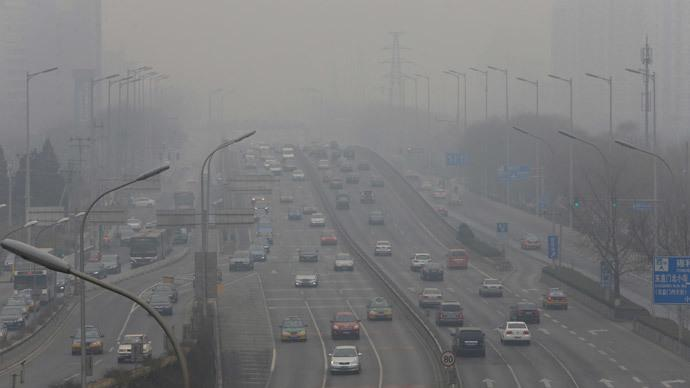airplane: (5, 155, 188, 375), (5, 218, 179, 317), (34, 160, 169, 223), (2, 240, 126, 295)
backpack: (123, 194, 156, 228)
baseball bat: (89, 164, 172, 212), (112, 164, 171, 192)
boat: (520, 233, 541, 250)
bus: (8, 149, 213, 378), (62, 192, 272, 378), (72, 193, 184, 324), (105, 204, 188, 374), (31, 233, 195, 310), (115, 232, 191, 320), (112, 203, 189, 280), (103, 227, 171, 278), (145, 223, 192, 292), (122, 235, 188, 283), (152, 200, 193, 271), (461, 227, 500, 259), (329, 319, 360, 359), (128, 233, 161, 269), (117, 334, 153, 364), (330, 308, 360, 341), (455, 327, 485, 359), (70, 327, 103, 356), (338, 298, 365, 331), (330, 345, 360, 374), (437, 303, 464, 332), (509, 302, 541, 326), (295, 253, 319, 285), (433, 248, 463, 273), (500, 321, 532, 344), (456, 223, 475, 260), (418, 286, 446, 310), (414, 261, 444, 283), (444, 246, 468, 272), (543, 287, 569, 311), (367, 298, 392, 322), (292, 268, 320, 289), (228, 248, 251, 272), (334, 252, 354, 272), (249, 245, 267, 267), (520, 233, 541, 251), (546, 234, 559, 259), (374, 241, 393, 258), (367, 211, 384, 226), (310, 212, 326, 227), (335, 196, 350, 211)
car: (62, 192, 272, 378), (0, 214, 212, 369), (148, 263, 272, 381), (108, 227, 191, 378), (178, 291, 299, 384), (211, 275, 276, 385), (133, 274, 189, 382), (122, 234, 189, 299), (11, 245, 123, 278), (261, 339, 327, 385), (328, 309, 371, 367), (116, 330, 176, 369), (122, 215, 167, 264), (441, 315, 493, 357), (495, 162, 535, 206), (60, 248, 120, 275), (148, 229, 190, 267), (131, 229, 177, 262), (142, 277, 178, 317), (332, 297, 366, 336), (1, 288, 39, 322), (329, 319, 360, 359), (412, 255, 444, 293), (117, 333, 153, 365), (11, 271, 50, 300), (84, 244, 124, 272), (124, 196, 157, 228), (438, 325, 470, 357), (128, 234, 161, 265), (455, 326, 486, 358), (70, 326, 104, 355), (109, 331, 144, 359), (107, 228, 129, 272), (437, 311, 463, 348), (194, 266, 222, 300), (440, 343, 462, 386), (330, 310, 360, 341), (329, 345, 361, 374), (421, 287, 455, 314), (442, 306, 481, 329), (412, 251, 449, 275), (420, 297, 455, 322), (303, 300, 324, 341), (508, 311, 538, 339), (415, 291, 443, 320), (116, 342, 145, 370), (322, 240, 351, 268), (232, 247, 264, 272), (157, 228, 184, 257), (448, 233, 471, 267), (499, 321, 531, 345), (509, 302, 541, 326), (295, 253, 319, 285), (433, 248, 463, 273), (476, 269, 506, 294), (496, 164, 535, 183), (84, 251, 110, 279), (436, 302, 465, 327), (279, 318, 308, 343), (420, 276, 445, 305), (423, 257, 452, 282), (292, 247, 318, 274), (254, 262, 280, 289), (245, 241, 270, 269), (91, 253, 121, 276), (349, 298, 379, 321), (126, 249, 157, 270), (366, 297, 393, 321), (367, 234, 394, 258), (342, 304, 362, 335), (445, 246, 469, 271), (543, 288, 569, 311), (413, 257, 439, 280), (346, 299, 368, 326), (418, 287, 443, 310), (102, 249, 125, 274), (433, 286, 461, 306), (228, 250, 252, 273), (317, 231, 340, 255), (430, 181, 449, 210), (406, 174, 435, 193), (81, 334, 105, 355), (425, 178, 449, 199), (252, 259, 280, 277), (478, 278, 503, 298), (419, 262, 444, 282), (430, 192, 449, 218), (107, 246, 128, 269), (279, 315, 306, 332), (294, 270, 319, 288), (434, 184, 460, 201), (304, 209, 327, 228), (456, 223, 474, 247), (447, 180, 464, 205), (410, 253, 432, 272), (492, 258, 514, 277), (334, 252, 354, 272), (498, 321, 521, 338), (444, 301, 465, 319), (73, 326, 98, 341), (83, 263, 106, 279), (419, 180, 442, 196), (119, 334, 143, 349), (240, 250, 260, 268), (520, 234, 541, 251), (233, 248, 255, 264), (404, 173, 423, 191), (411, 259, 430, 277), (116, 343, 133, 363), (249, 250, 266, 270), (171, 227, 188, 247), (510, 321, 531, 337), (249, 245, 267, 263), (104, 258, 121, 277), (298, 248, 319, 263), (456, 248, 471, 269), (319, 227, 336, 245), (545, 286, 564, 302), (85, 325, 104, 341), (54, 280, 68, 301), (227, 256, 244, 273), (374, 241, 392, 257), (483, 277, 505, 290), (367, 295, 389, 308), (79, 324, 102, 336), (285, 315, 308, 327), (306, 207, 325, 221), (88, 340, 104, 356), (417, 179, 433, 195), (367, 211, 384, 226), (130, 258, 153, 269), (430, 185, 448, 199), (441, 288, 459, 302), (246, 258, 264, 272), (496, 323, 509, 342), (310, 212, 326, 227), (433, 204, 449, 219), (440, 351, 455, 367), (257, 246, 272, 262), (252, 260, 270, 273), (335, 196, 350, 211), (320, 234, 337, 247), (123, 333, 144, 342), (301, 206, 318, 217), (288, 211, 303, 221)
chair: (141, 277, 182, 378)
handbag: (123, 194, 156, 228)
motorcycle: (279, 318, 308, 343)
parking meter: (455, 326, 486, 358), (441, 351, 457, 379), (441, 351, 455, 367)
person: (94, 198, 190, 371), (144, 276, 188, 381), (149, 275, 178, 315), (107, 225, 130, 266), (102, 238, 125, 274), (84, 247, 106, 279), (280, 316, 306, 343), (97, 232, 117, 267), (101, 227, 122, 259), (99, 225, 112, 249), (101, 232, 116, 252), (21, 302, 34, 324), (22, 293, 34, 315), (66, 276, 76, 298)
scissors: (74, 162, 173, 216)
sports ball: (441, 351, 455, 367)
tennis racket: (141, 277, 181, 371)
toothbrush: (74, 162, 173, 216)
traffic light: (455, 326, 486, 358), (571, 198, 583, 211)
train: (8, 149, 213, 378), (62, 192, 272, 378), (42, 153, 179, 315), (75, 187, 197, 348), (128, 235, 161, 265)
truck: (6, 167, 221, 375), (68, 214, 185, 344), (108, 227, 191, 378), (197, 267, 275, 382), (115, 228, 190, 298), (135, 234, 192, 283), (145, 204, 194, 260), (6, 260, 70, 301), (126, 229, 179, 272), (116, 333, 171, 374), (122, 215, 167, 264), (114, 227, 159, 274), (1, 283, 45, 331), (148, 229, 190, 267), (457, 224, 499, 259), (329, 319, 360, 359), (11, 270, 51, 300), (116, 334, 153, 364), (139, 230, 177, 258), (128, 235, 160, 267), (3, 290, 37, 320), (71, 325, 103, 356), (193, 268, 223, 300), (330, 311, 360, 342), (455, 327, 485, 358), (329, 346, 361, 375), (338, 298, 365, 331), (412, 251, 449, 275), (232, 247, 264, 272), (356, 297, 384, 325), (279, 316, 308, 343), (157, 228, 184, 257), (448, 233, 471, 267), (509, 302, 541, 326), (295, 253, 319, 285), (0, 302, 28, 329), (433, 248, 463, 273), (84, 251, 110, 279), (436, 302, 465, 327), (420, 276, 445, 305), (456, 223, 475, 260), (292, 247, 318, 274), (501, 321, 530, 345), (91, 253, 121, 276), (107, 242, 131, 270), (414, 259, 443, 282), (367, 297, 392, 322), (121, 338, 144, 365), (544, 287, 569, 311), (418, 287, 443, 310), (102, 249, 125, 274), (345, 299, 368, 324), (248, 237, 270, 263), (317, 231, 340, 255), (228, 250, 251, 273), (445, 248, 469, 270), (299, 208, 327, 226), (294, 268, 319, 288), (478, 279, 503, 299), (243, 251, 266, 271), (454, 243, 472, 268), (409, 253, 432, 272), (334, 252, 354, 272), (249, 245, 267, 267), (520, 234, 541, 251), (116, 343, 133, 363), (546, 234, 559, 259), (374, 240, 392, 258), (298, 248, 319, 263), (310, 211, 326, 227), (367, 211, 384, 226), (433, 204, 449, 219), (320, 234, 337, 247), (288, 211, 303, 221)
tv: (128, 235, 161, 265)
